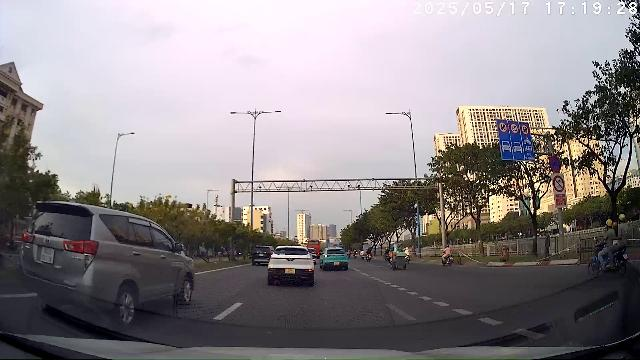127-toc-do-toi-da-50: (520, 124, 530, 136)
127-toc-do-toi-da-60: (498, 120, 508, 134), (509, 122, 519, 134)
130-cam-dung-va-do-xe: (549, 155, 562, 172)
